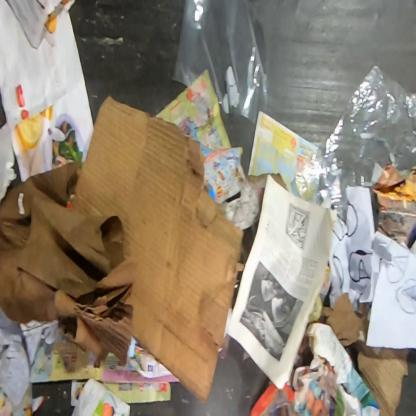cardboard: (70, 94, 245, 404), (0, 160, 141, 365), (316, 292, 410, 416)
soft_plastic: (293, 62, 415, 224), (171, 0, 270, 126)
